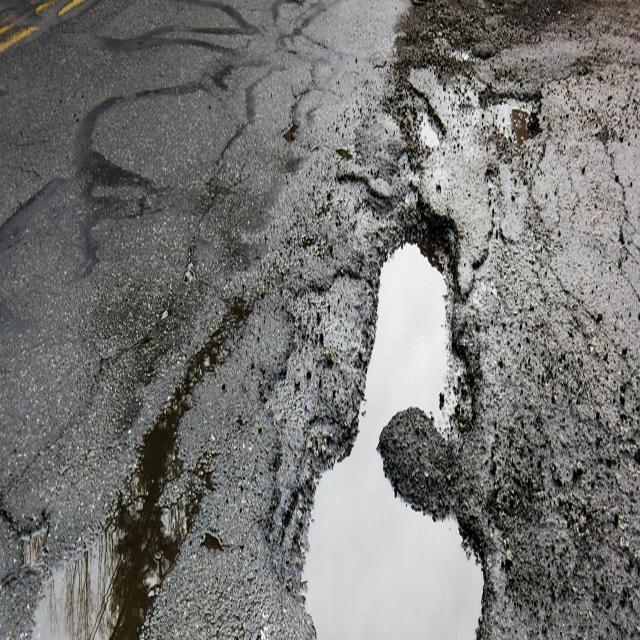pothole: (127, 42, 579, 640)
